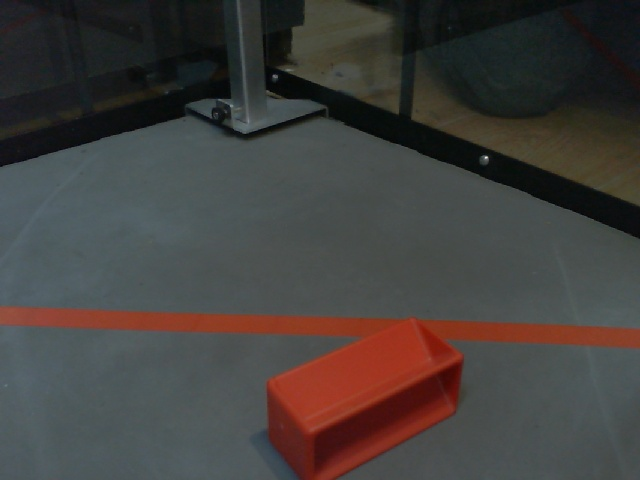RedSample: (262, 316, 467, 478)
